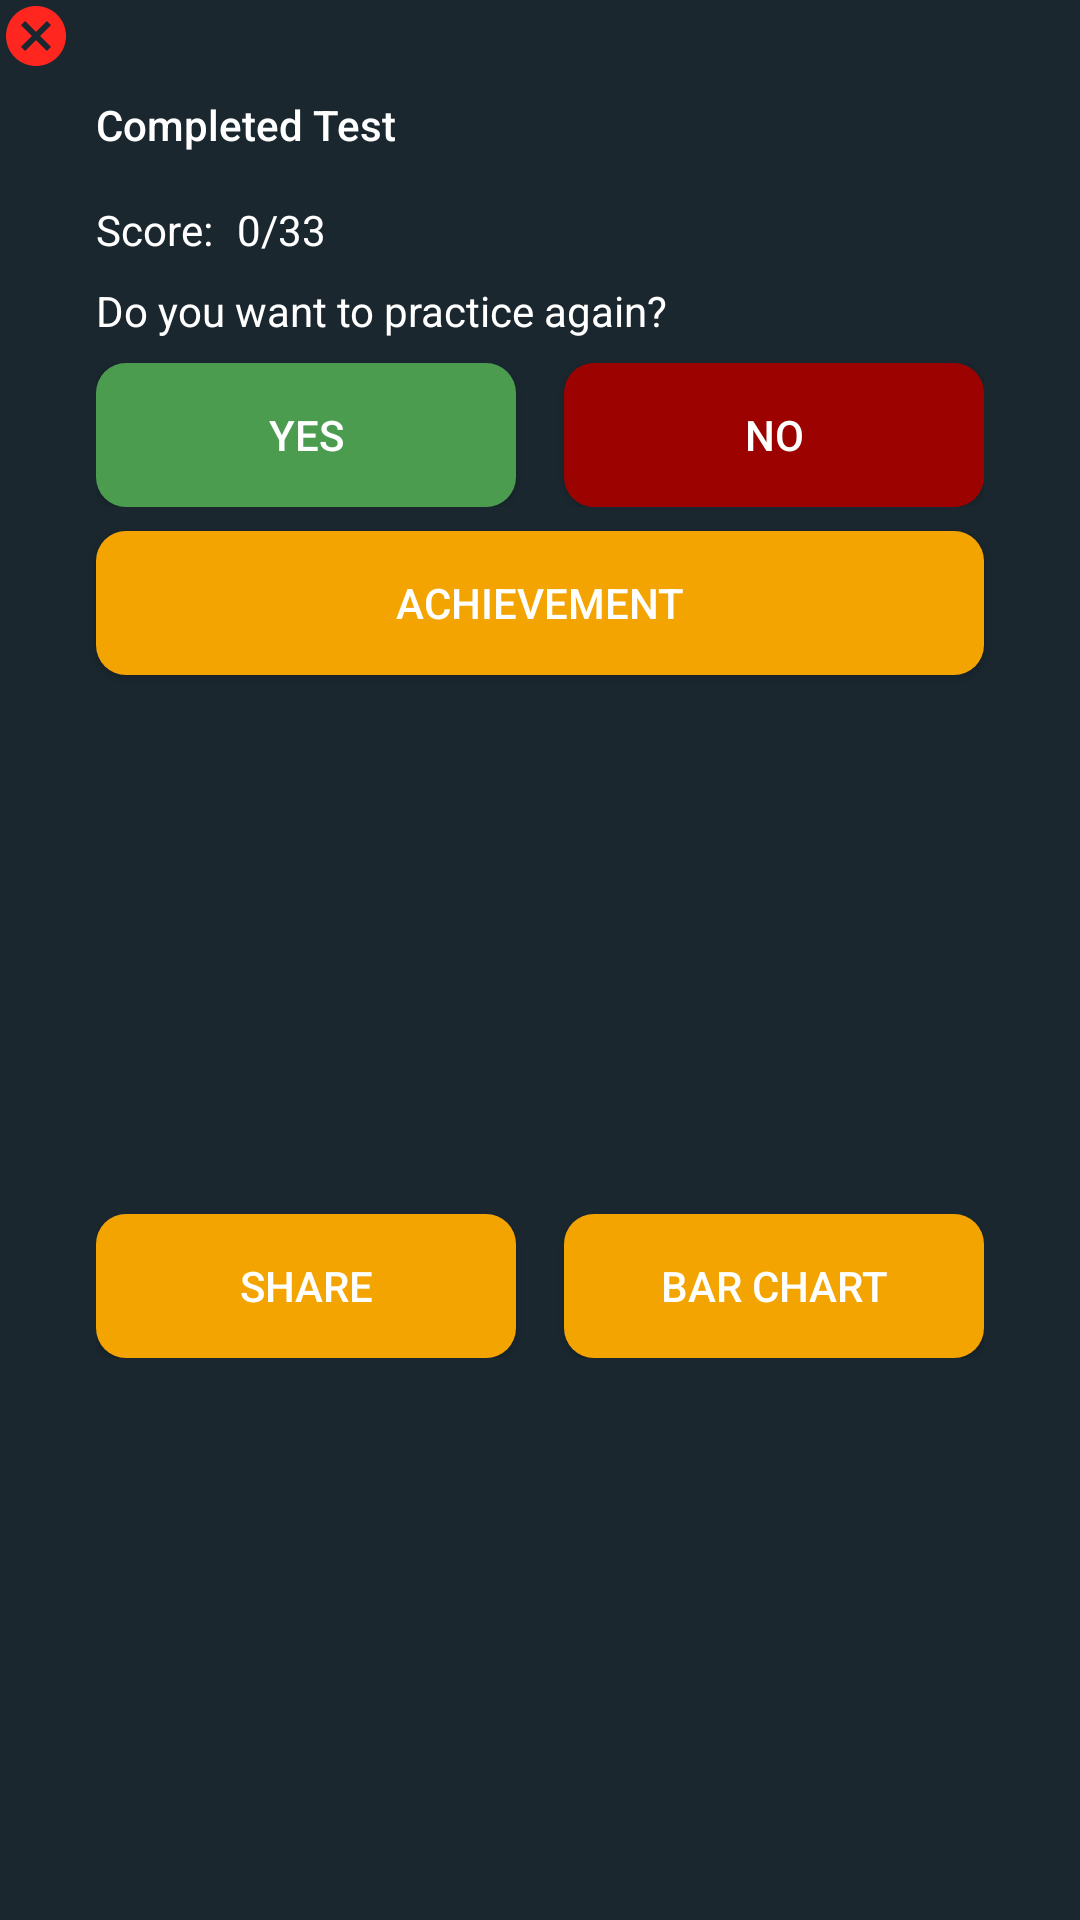

Named icons in this screenshot (1080 x 1920) and their centers, (x,y):
cancel: (36,36)
